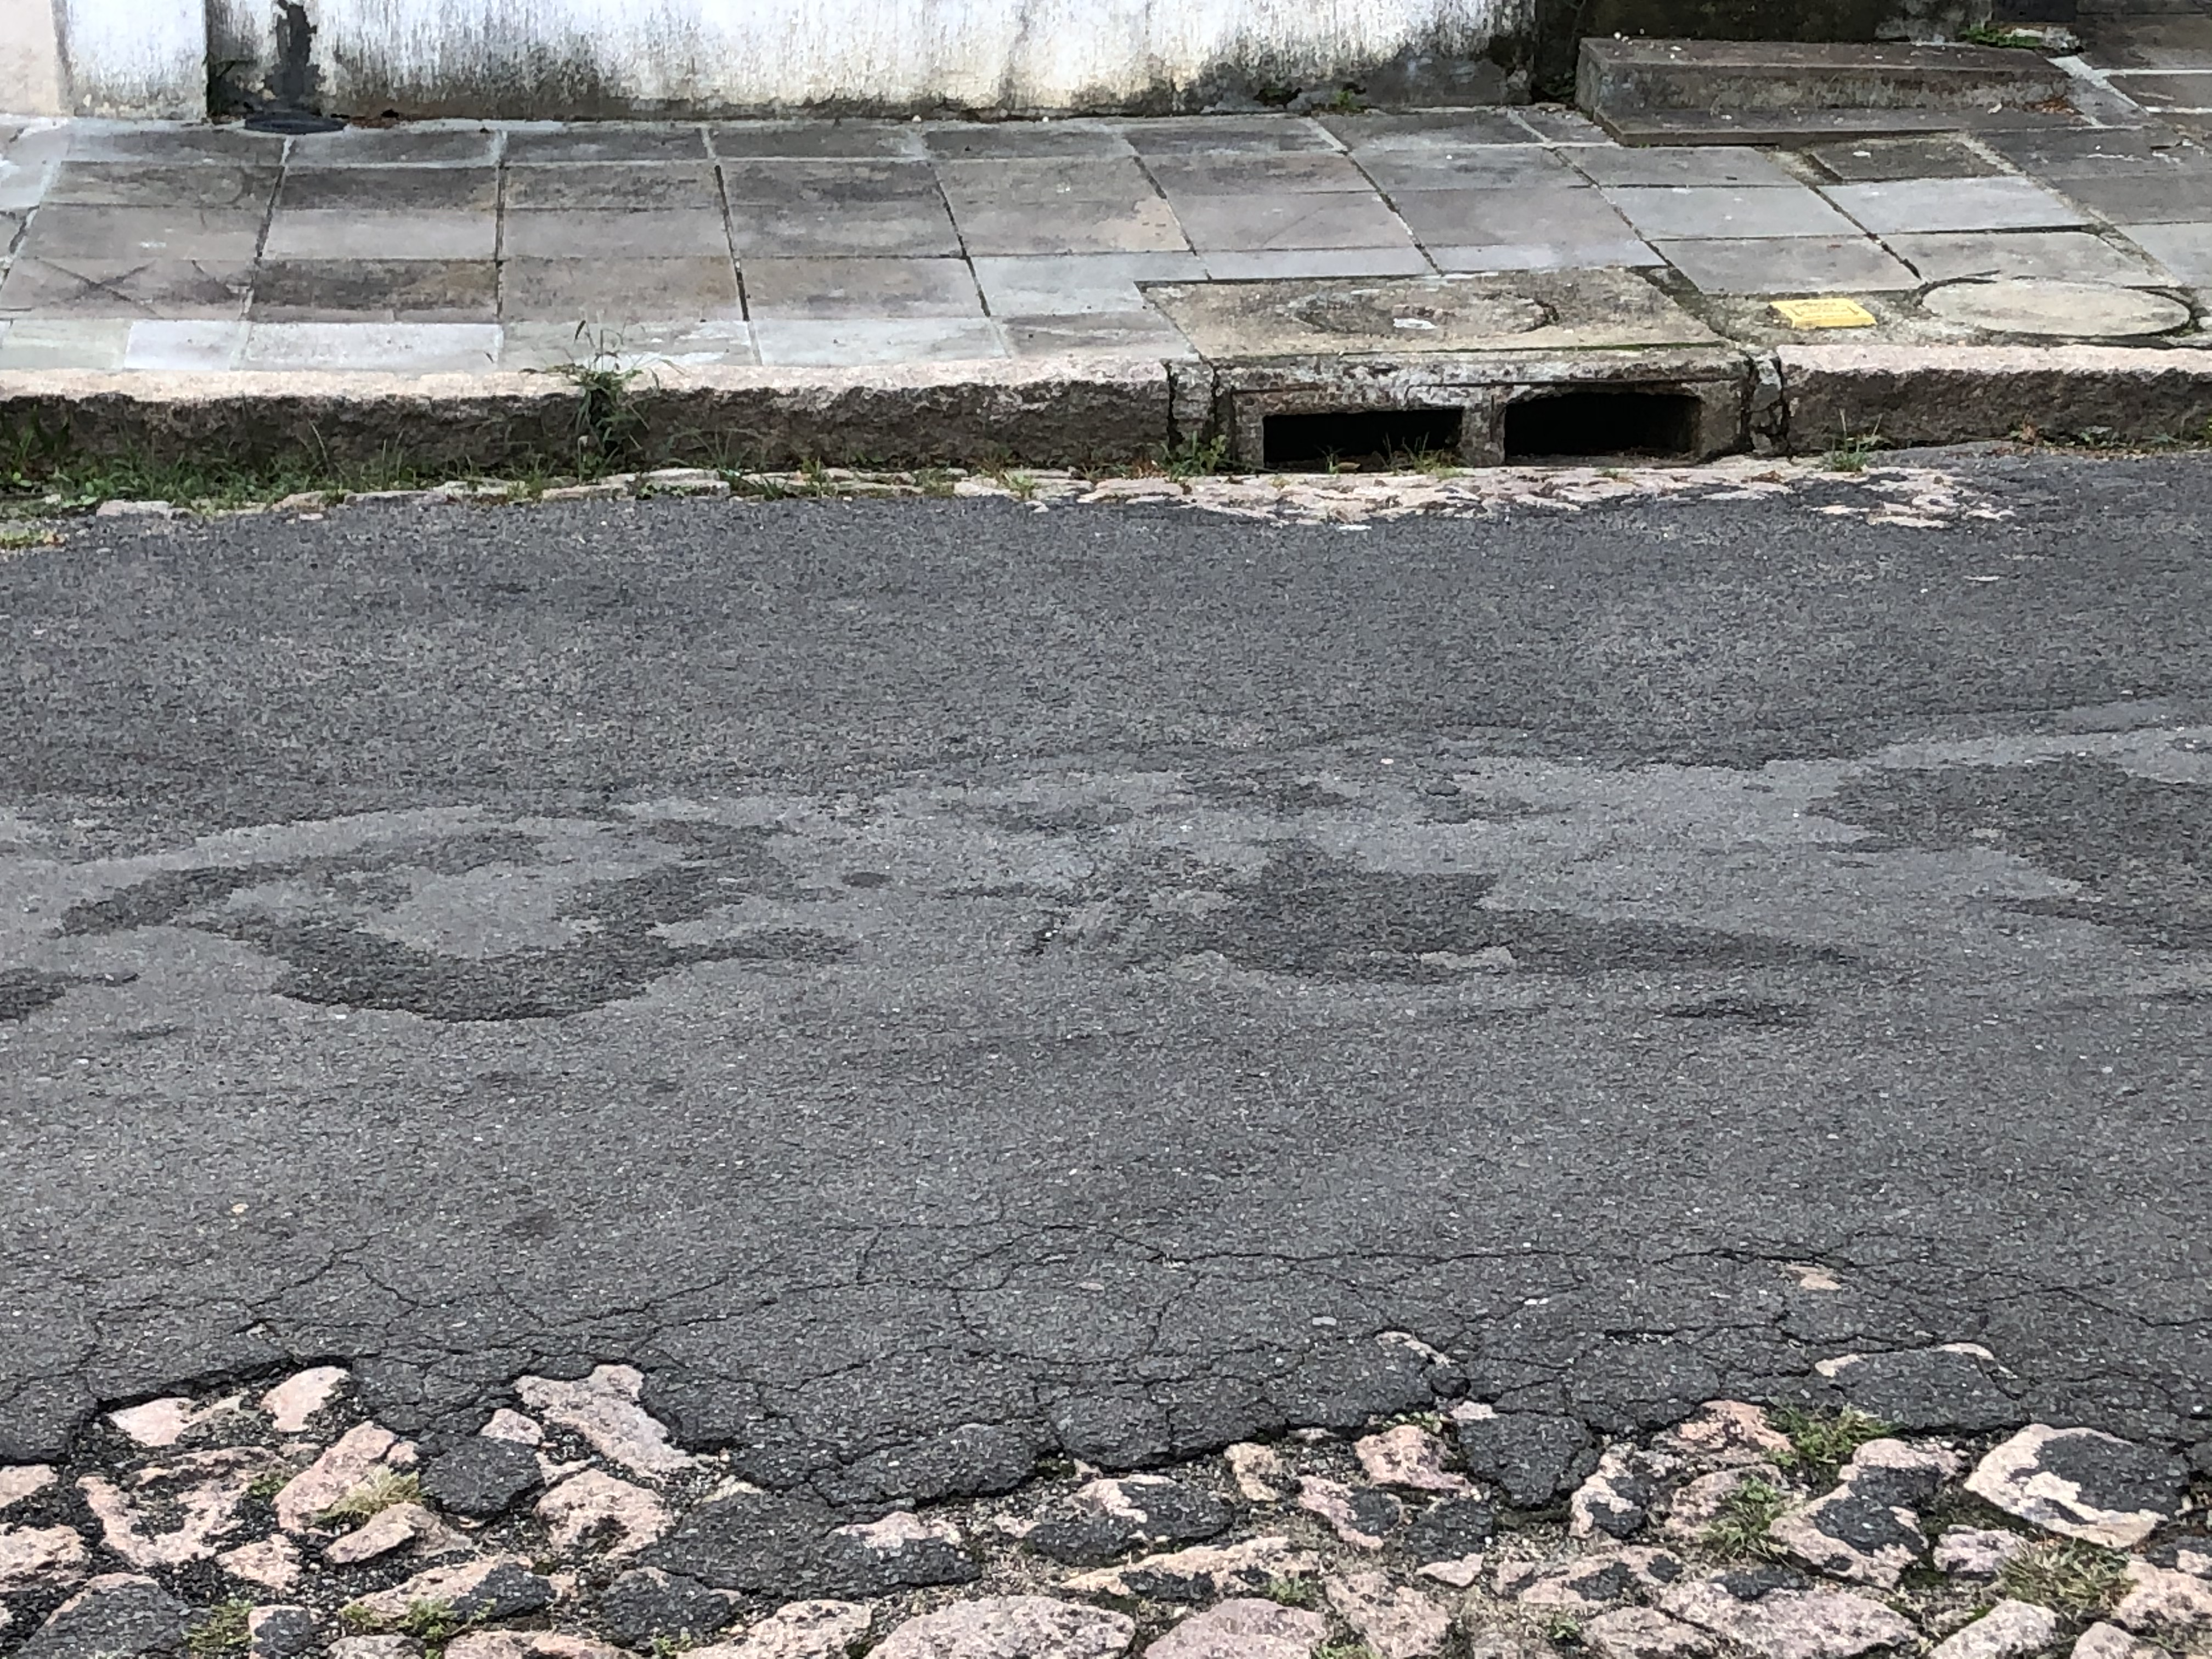vag57: (14, 181, 2212, 640)
